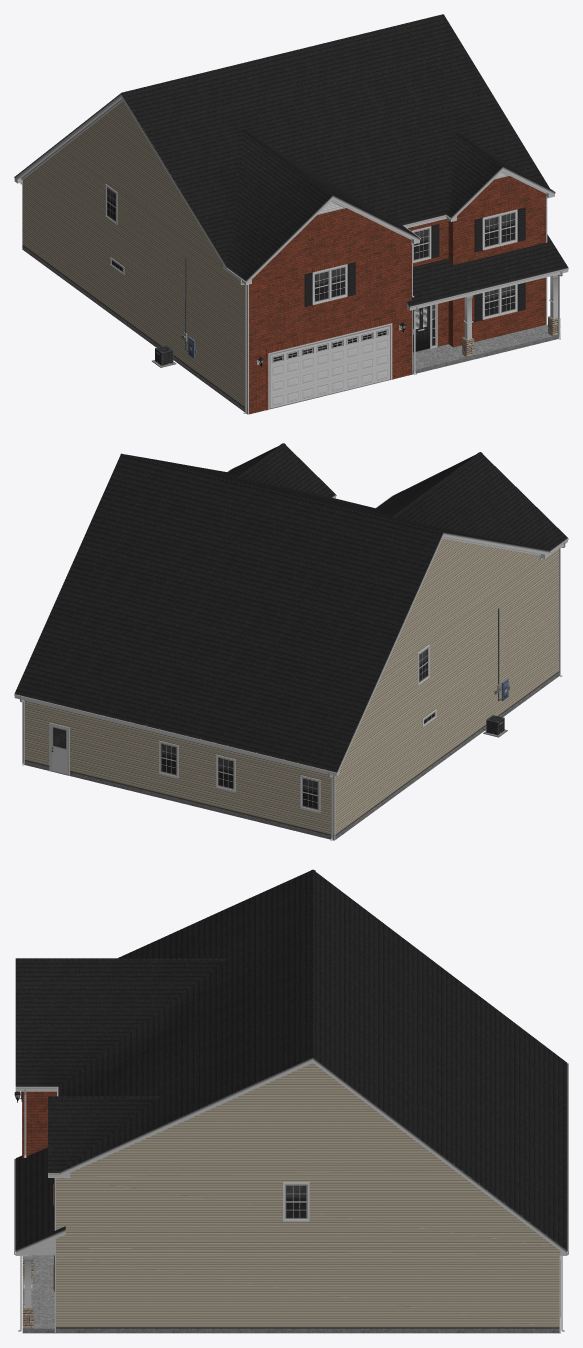
File: house29_mirror2.fbx
3 views of the same model, one above another, from view 1: azimuth 30°, elevation 25°; view 2: azimuth 150°, elevation 25°; view 3: azimuth 270°, elevation 25° (orthographic). The views are drawn at different scales.
Parts seen in each view (by area): view 1: house29_mirror2_LOD0; view 2: house29_mirror2_LOD0; view 3: house29_mirror2_LOD0.
Part boxes in pixels (x1,y1,x2,y2): house29_mirror2_LOD0: (14,14,568,414); house29_mirror2_LOD0: (14,443,568,840); house29_mirror2_LOD0: (14,869,568,1333).
Size of what is drawn, in the model's own units: 4.31 by 2.86 by 5.16.
